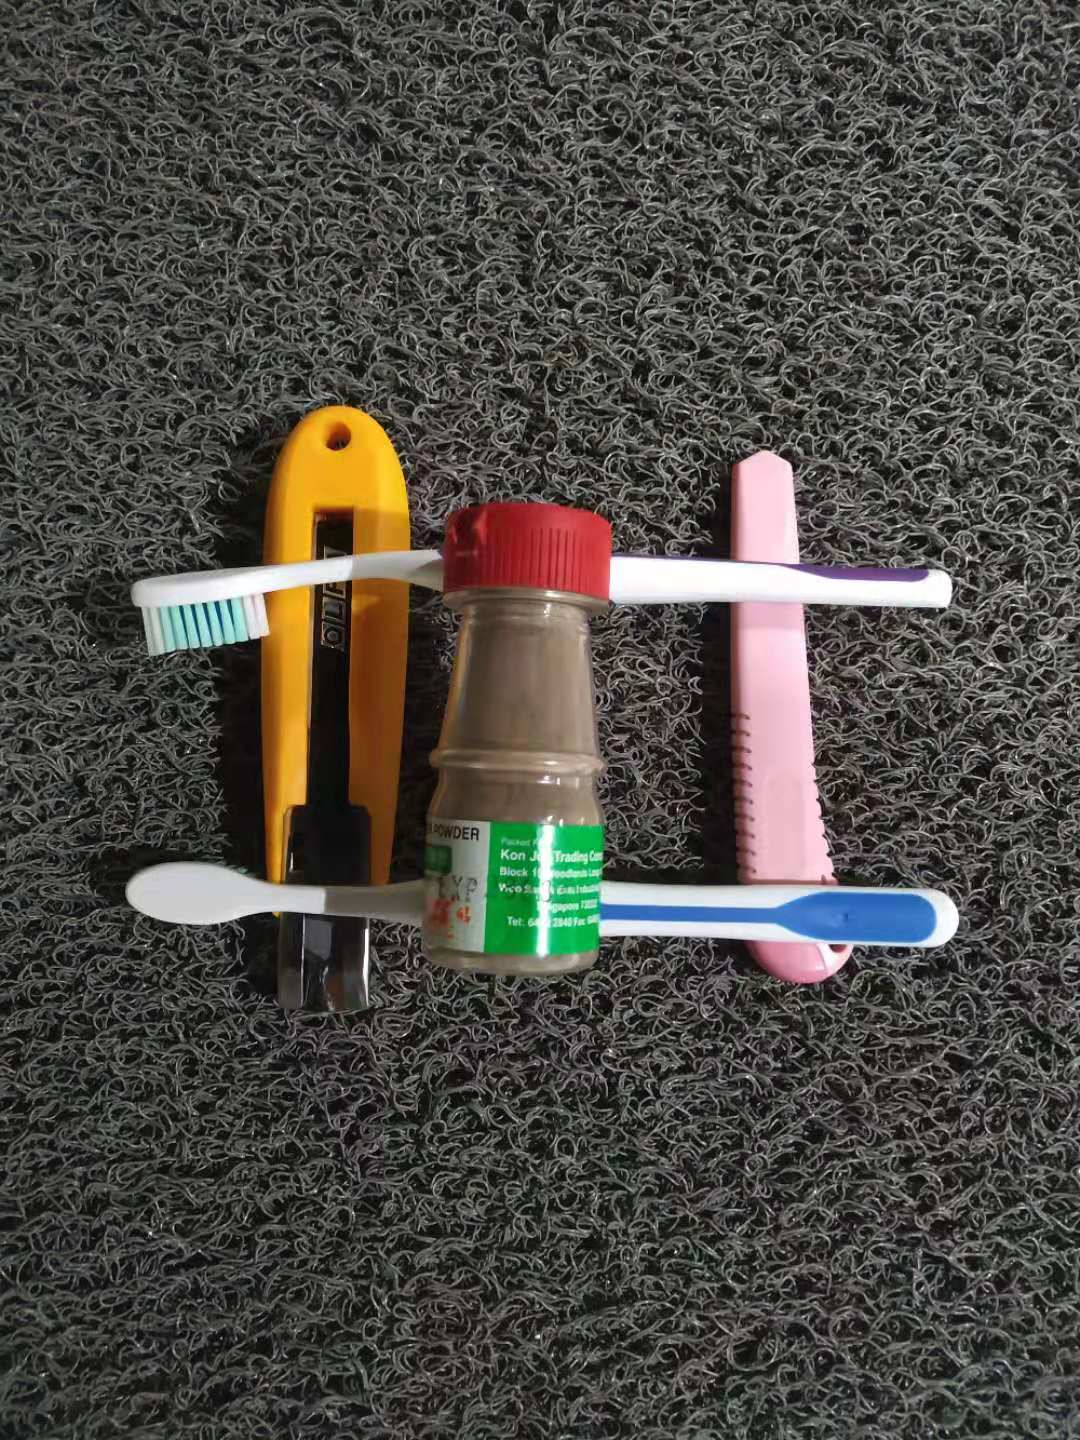bottle: (427, 495, 619, 989)
knife: (248, 386, 407, 1025), (720, 446, 857, 983)
toothbrush: (130, 542, 953, 659), (120, 852, 963, 963)
